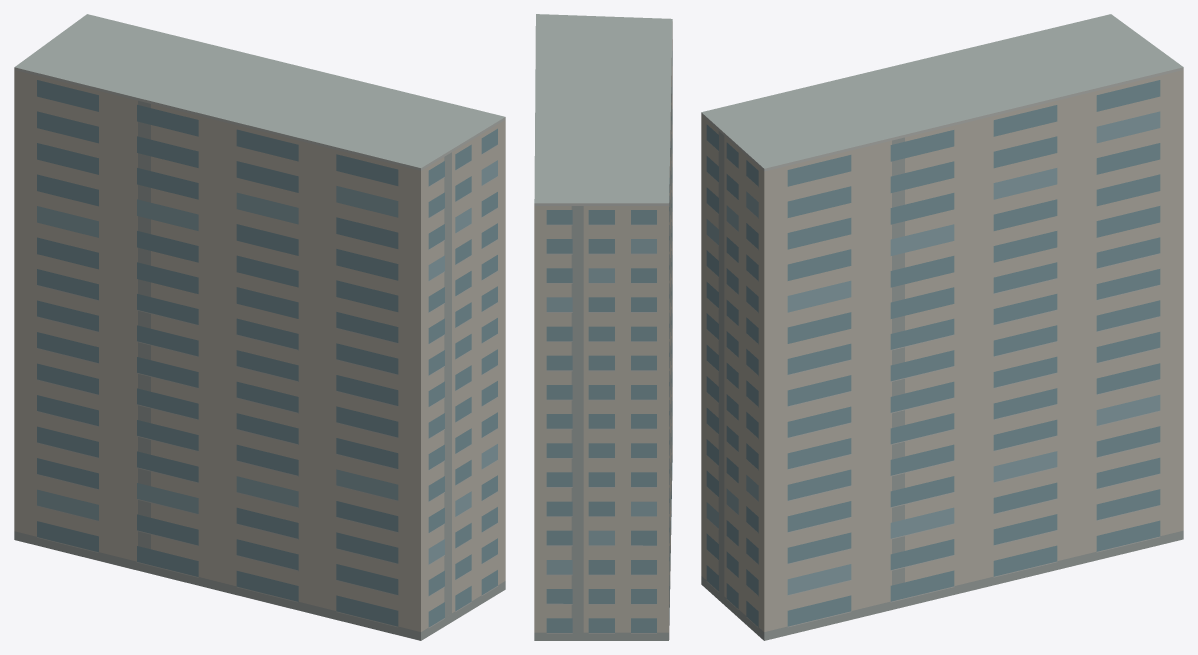
File: residential-aa7cb6e3-6e87-4429-8681-5edfcf3aac1d.glb
3 renders of one model, left to right at view 1: azimuth 30°, elevation 25°; view 2: azimuth 150°, elevation 25°; view 3: azimuth 270°, elevation 25°, orthographic. The views are drawn at different scales.
Visible parts, largest first — view 1: residential-aa7cb6e3-6e87-4429-8681-5edfcf3aac1d.tmp; view 2: residential-aa7cb6e3-6e87-4429-8681-5edfcf3aac1d.tmp; view 3: residential-aa7cb6e3-6e87-4429-8681-5edfcf3aac1d.tmp.
Part boxes in pixels (<box>): residential-aa7cb6e3-6e87-4429-8681-5edfcf3aac1d.tmp: <box>14,14,505,640</box>; residential-aa7cb6e3-6e87-4429-8681-5edfcf3aac1d.tmp: <box>534,14,672,640</box>; residential-aa7cb6e3-6e87-4429-8681-5edfcf3aac1d.tmp: <box>701,14,1183,640</box>.
Bounding box in the file's own units: 29.54 × 42 × 38.91.
